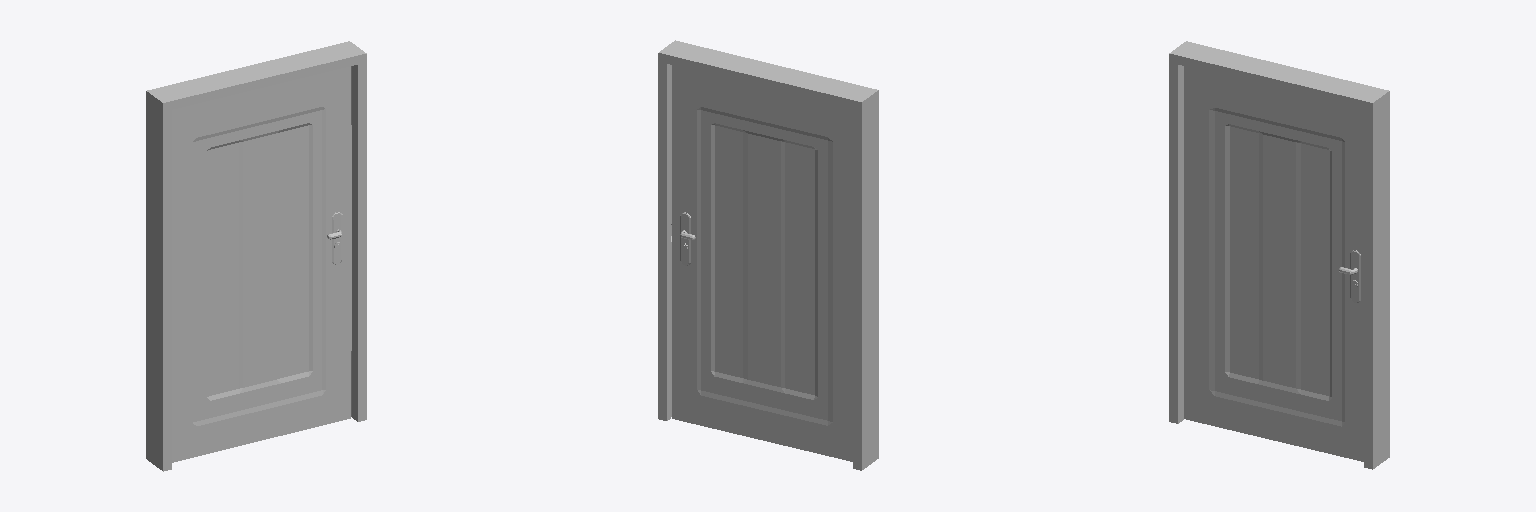
The model's file is Door2.obj.
3 views of the same model, side by side, from view 1: azimuth 30°, elevation 25°; view 2: azimuth 150°, elevation 25°; view 3: azimuth 330°, elevation 25° (orthographic).
Visible parts, largest first — view 1: DoorBoddy_Cube.001, OutBoddy_Cube.002; view 2: DoorBoddy_Cube.001, OutBoddy_Cube.002; view 3: DoorBoddy_Cube.001, OutBoddy_Cube.002.
Boxes of the visible parts, x1,y1,x2,y2 form: DoorBoddy_Cube.001: [172, 66, 351, 462]; OutBoddy_Cube.002: [146, 41, 366, 471]; DoorBoddy_Cube.001: [672, 65, 852, 461]; OutBoddy_Cube.002: [658, 40, 878, 470]; DoorBoddy_Cube.001: [1184, 66, 1363, 461]; OutBoddy_Cube.002: [1169, 41, 1389, 469].
Size of the model in its own units: 7.18 by 12.42 by 1.09.